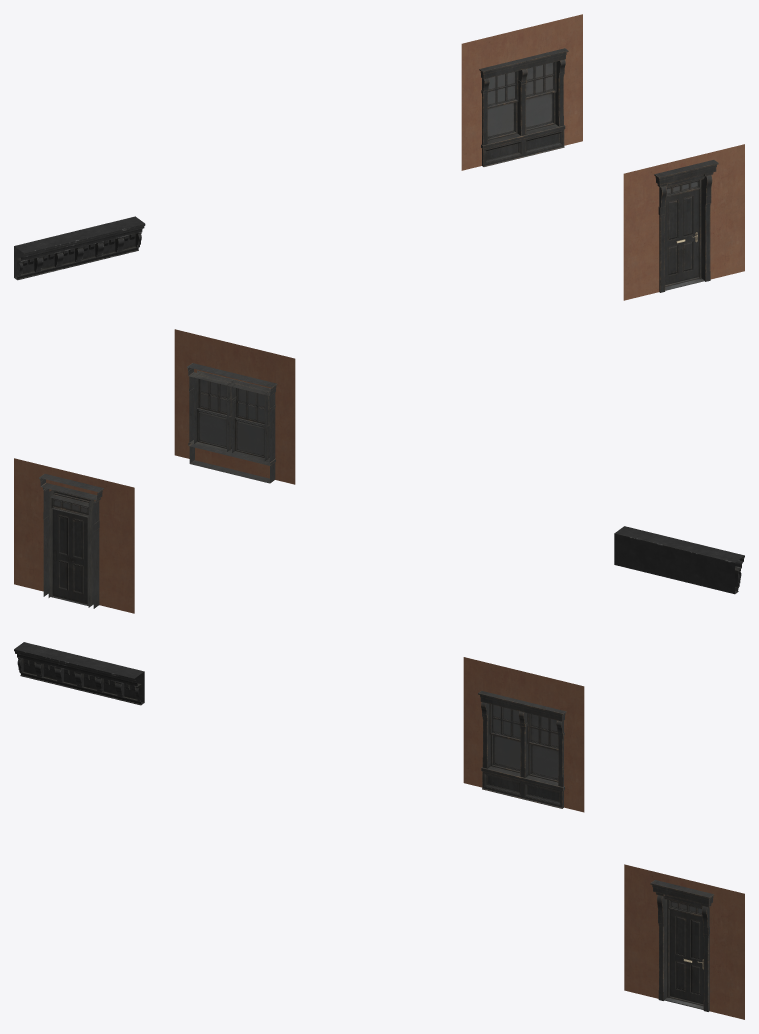
The model's file is source.gltf.
3 views of the same model, one above another, from view 1: azimuth 30°, elevation 25°; view 2: azimuth 150°, elevation 25°; view 3: azimuth 330°, elevation 25° (orthographic).
Parts seen in each view (by area): view 1: wall_door_centered_small_01, window_centered_large_01, wall_window_centered_large_01, door_centered_small_01, crown_standard_standard_01; view 2: wall_door_centered_small_01, wall_window_centered_large_01, window_centered_large_01, door_centered_small_01, crown_standard_standard_01; view 3: wall_door_centered_small_01, window_centered_large_01, wall_window_centered_large_01, door_centered_small_01, crown_standard_standard_01.
Boxes of the visible parts, bbox=[...] form: wall_door_centered_small_01: bbox=[623, 144, 744, 300]; window_centered_large_01: bbox=[479, 48, 568, 166]; wall_window_centered_large_01: bbox=[461, 14, 582, 170]; door_centered_small_01: bbox=[654, 160, 718, 292]; crown_standard_standard_01: bbox=[14, 216, 145, 280]; wall_door_centered_small_01: bbox=[14, 458, 134, 613]; wall_window_centered_large_01: bbox=[174, 329, 295, 484]; window_centered_large_01: bbox=[187, 363, 277, 483]; door_centered_small_01: bbox=[39, 473, 103, 608]; crown_standard_standard_01: bbox=[614, 526, 744, 594]; wall_door_centered_small_01: bbox=[624, 864, 744, 1019]; window_centered_large_01: bbox=[478, 690, 566, 808]; wall_window_centered_large_01: bbox=[463, 657, 584, 812]; door_centered_small_01: bbox=[650, 880, 714, 1011]; crown_standard_standard_01: bbox=[14, 642, 144, 705].
Size of the model in its own units: 18 by 7 by 0.57.
4 materials, 4 textured.
